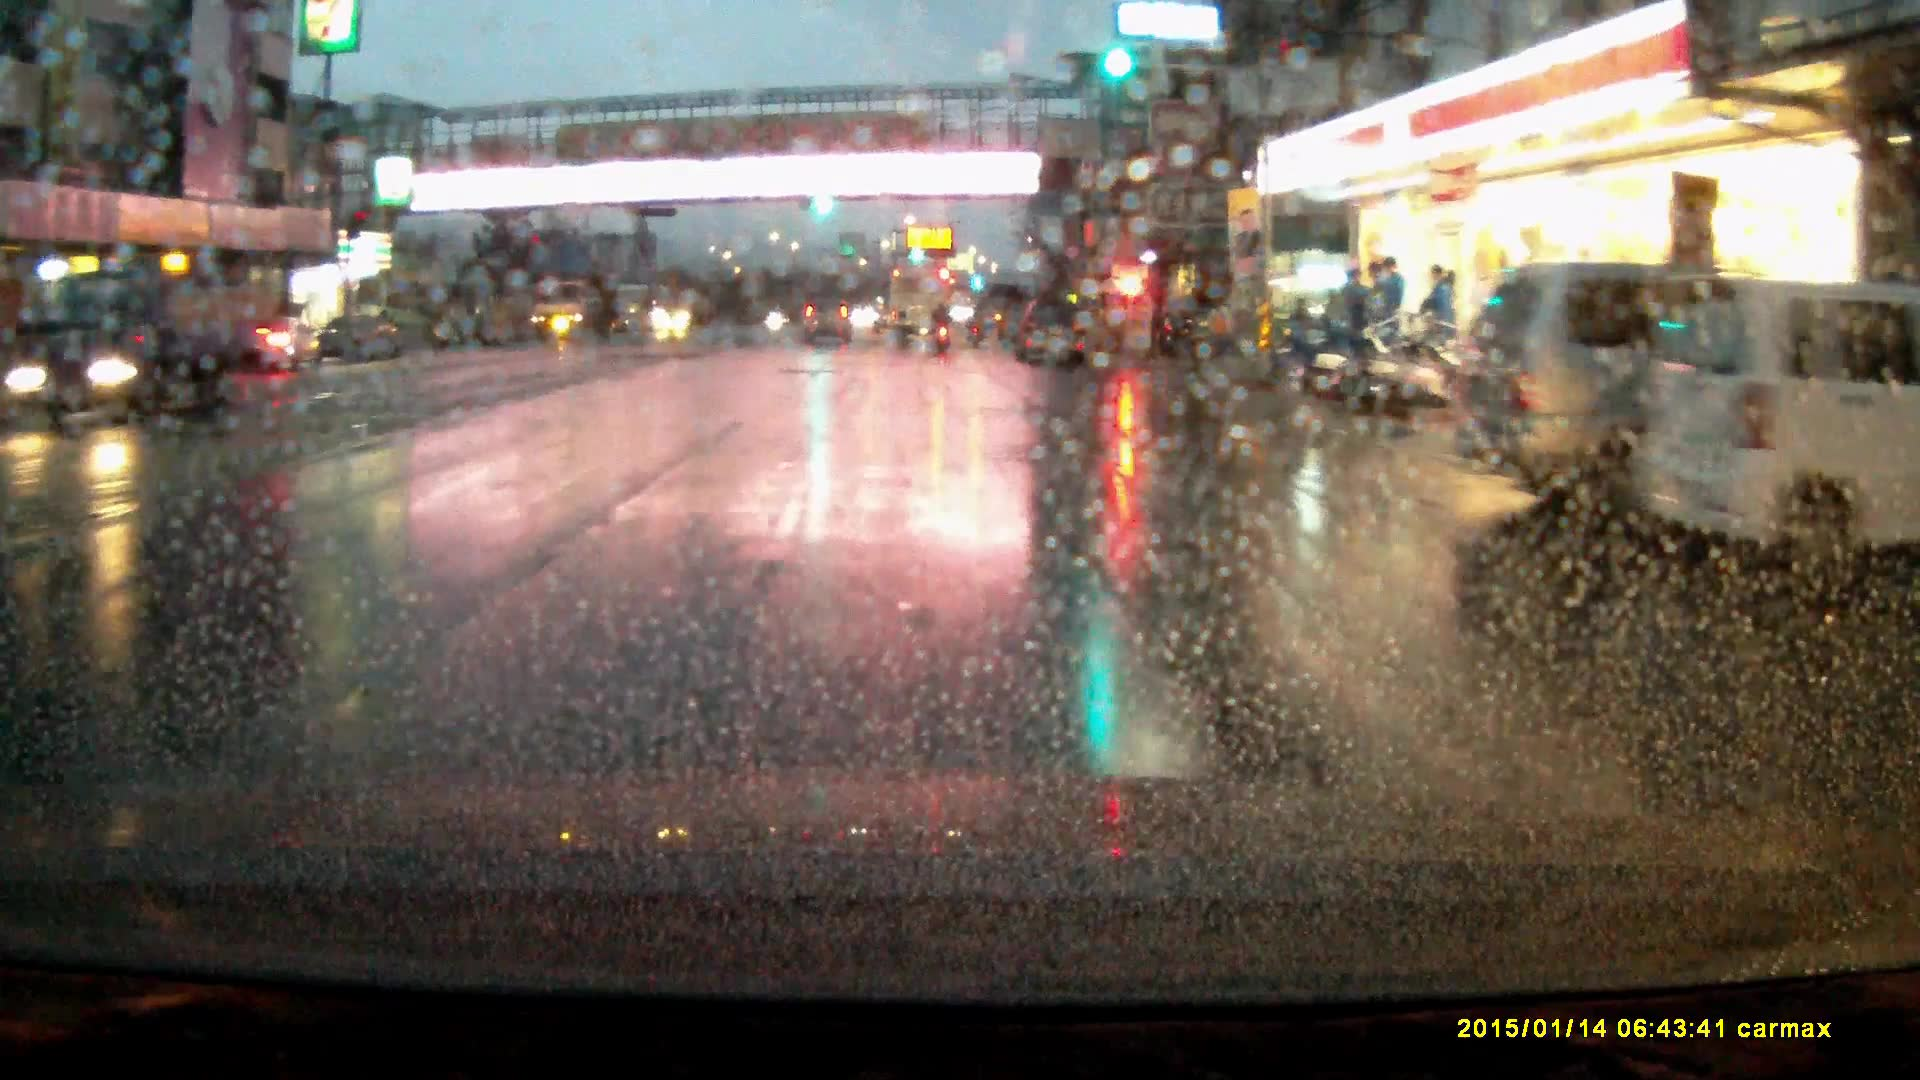rider: (932, 298, 957, 352)
vehicle: (1457, 262, 1833, 531), (35, 265, 267, 423), (1017, 292, 1087, 367), (891, 265, 956, 345), (532, 282, 615, 344), (1154, 298, 1236, 357), (309, 313, 405, 362), (660, 280, 718, 330), (800, 296, 855, 346)
